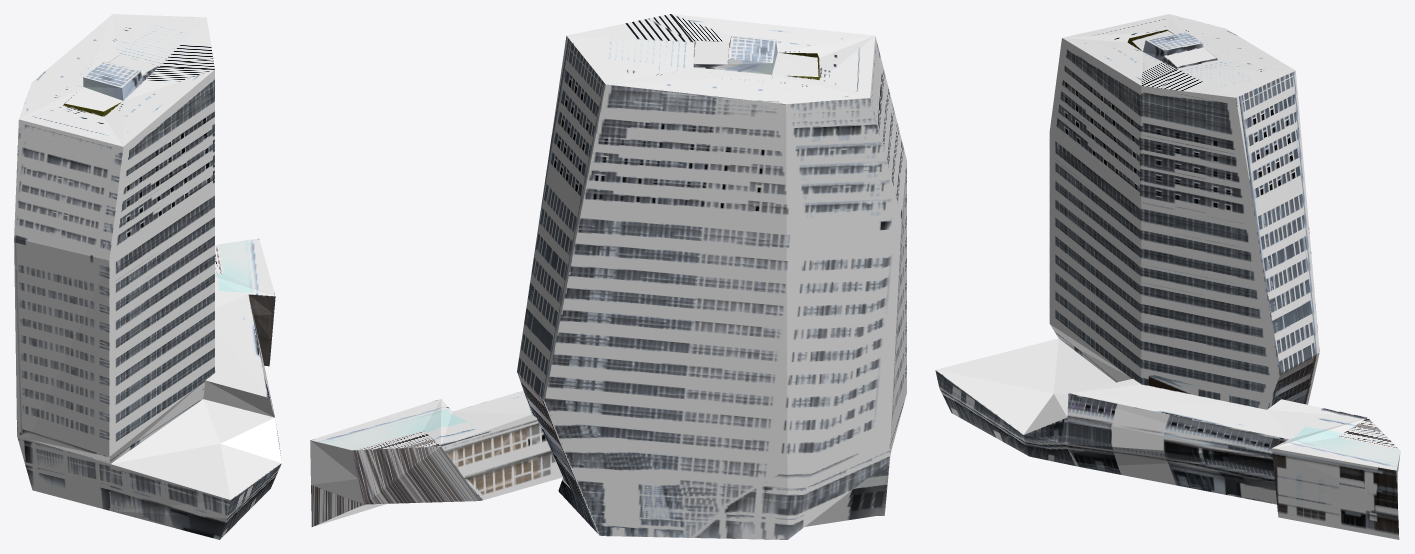
3 views of the same model, side by side, from view 1: azimuth 30°, elevation 25°; view 2: azimuth 150°, elevation 25°; view 3: azimuth 270°, elevation 25° (orthographic). The views are drawn at different scales.
Visible parts, largest first — view 1: 4.07copy; view 2: 4.07copy; view 3: 4.07copy.
Boxes of the visible parts, x1=… form: 4.07copy: x1=14, y1=14, x2=281, y2=539; 4.07copy: x1=310, y1=14, x2=906, y2=539; 4.07copy: x1=935, y1=14, x2=1400, y2=539.
Size of the model in its own units: 88.96 by 88.16 by 98.07.
Materials: 1 (1 with a texture image).
